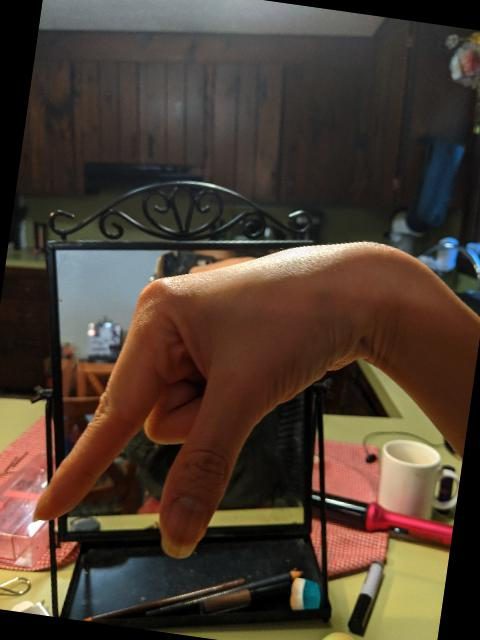Q: (23, 194, 386, 586)
